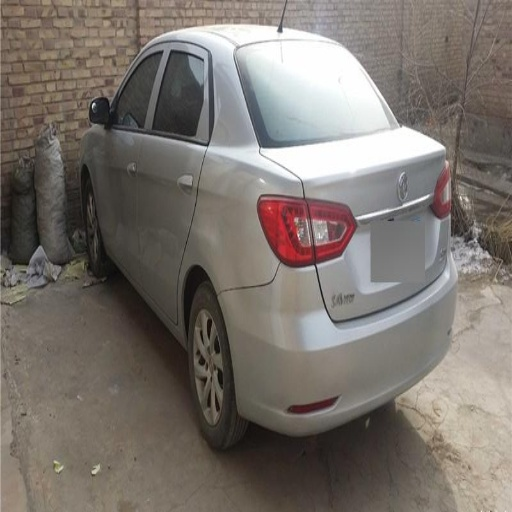back_bumper: (224, 257, 457, 436)
back_glass: (247, 42, 400, 146)
back_left_door: (140, 41, 212, 292)
tailgate: (291, 128, 447, 320)
trunk: (303, 159, 355, 222)
